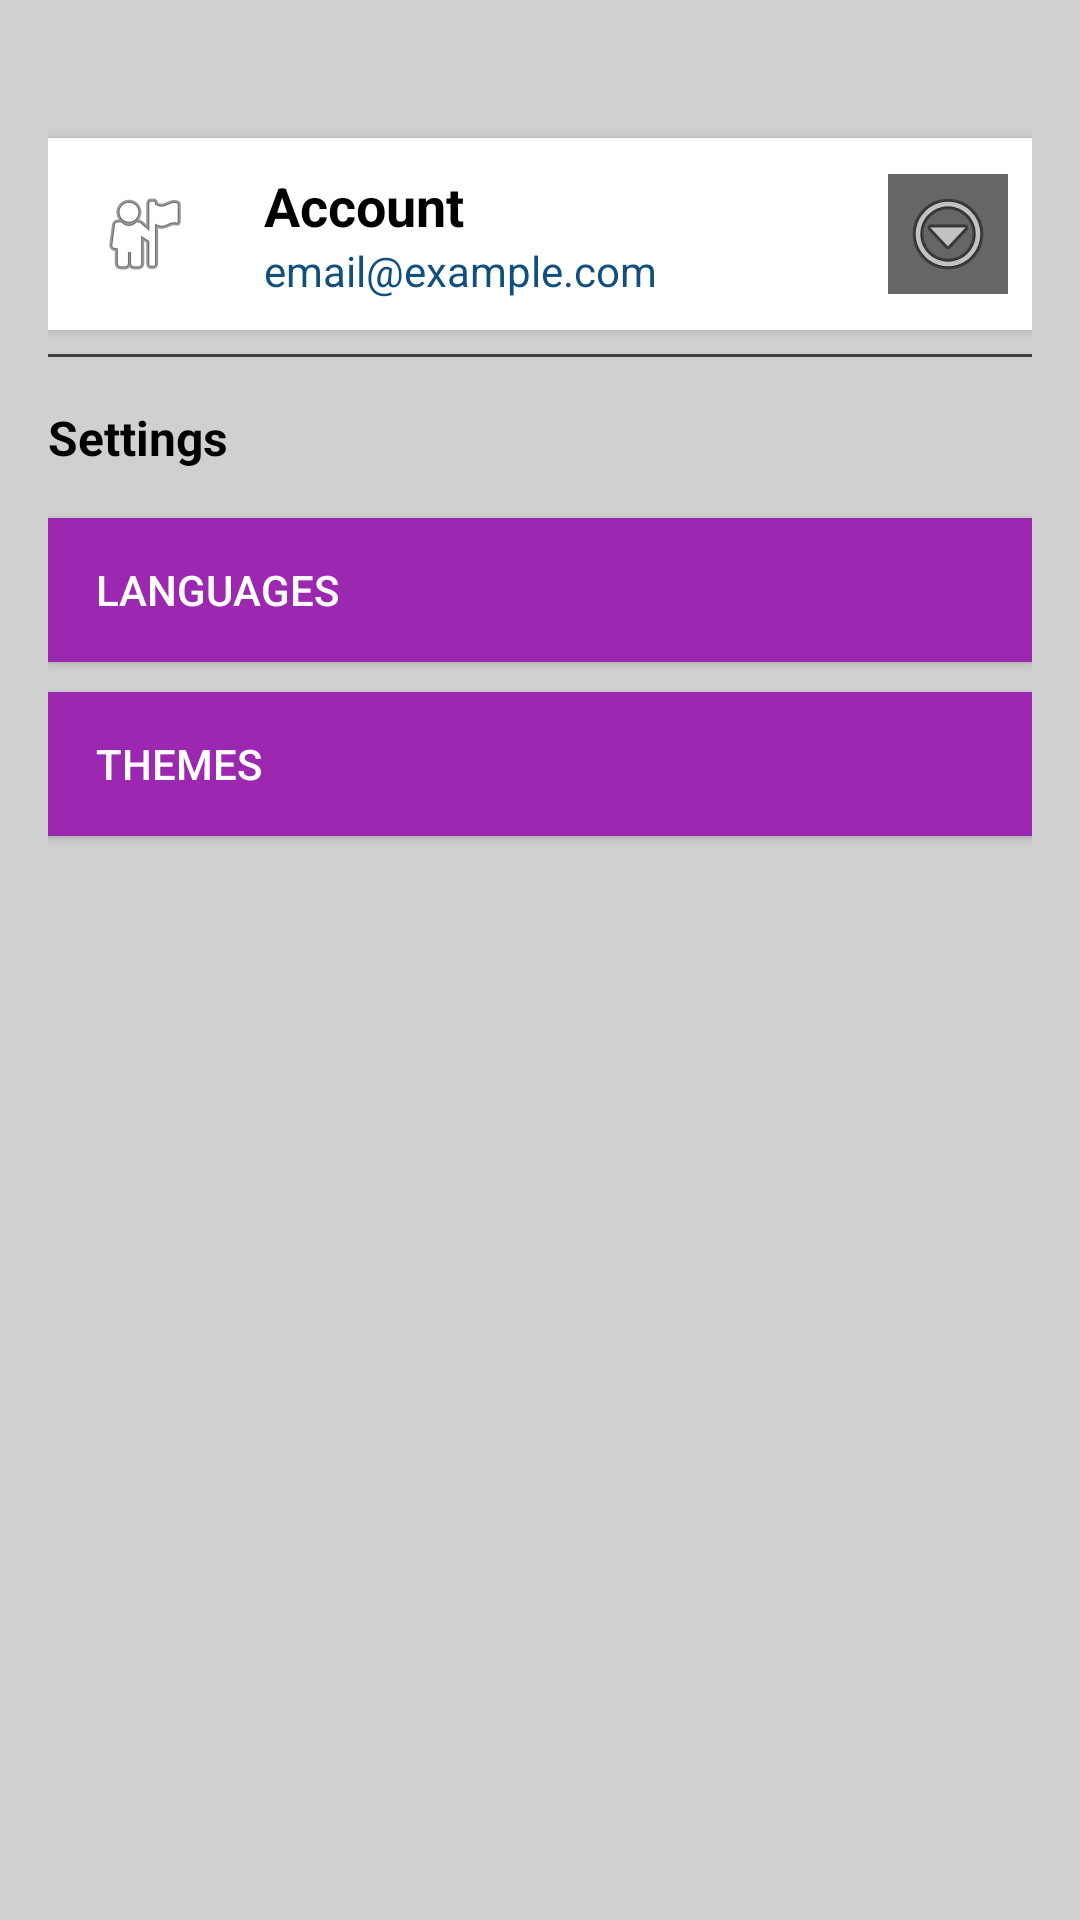

Icons on this 1080 × 1920 Android screen, each with the point to tap as (x=x, y=y):
Menu tùy chọn: (x=948, y=234)
myplaces: (x=145, y=234)
